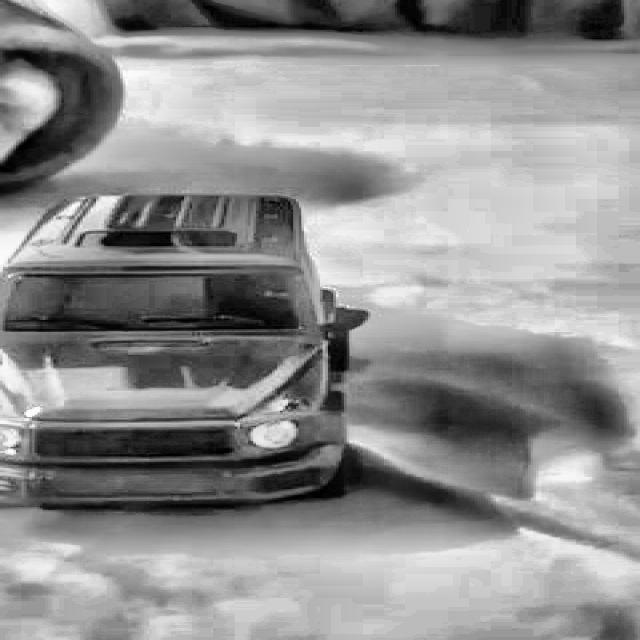light_vehicle: (0, 196, 373, 498)
